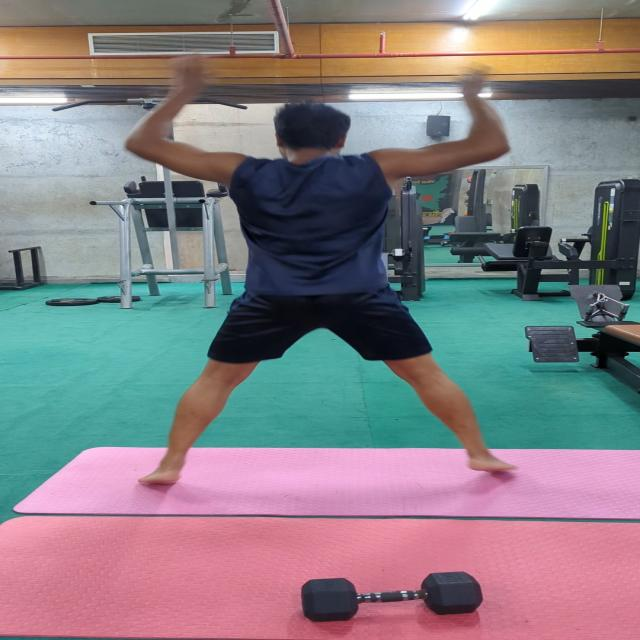Normal_JumpingJacks: (136, 38, 514, 500)
